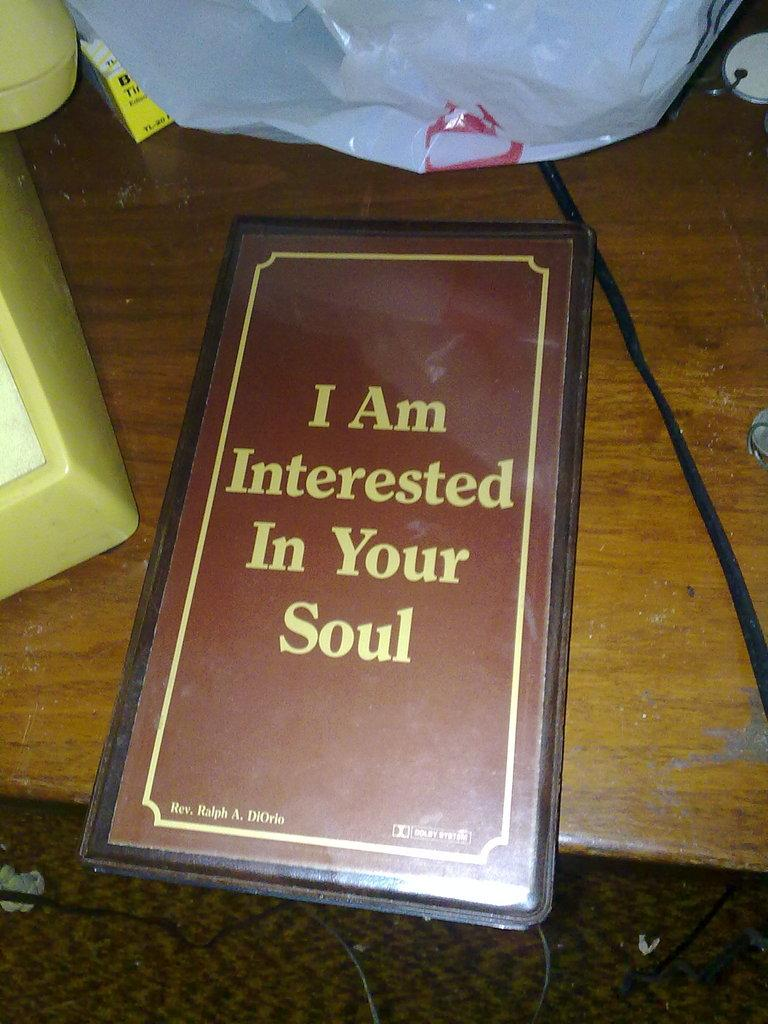book: (77, 214, 598, 938)
